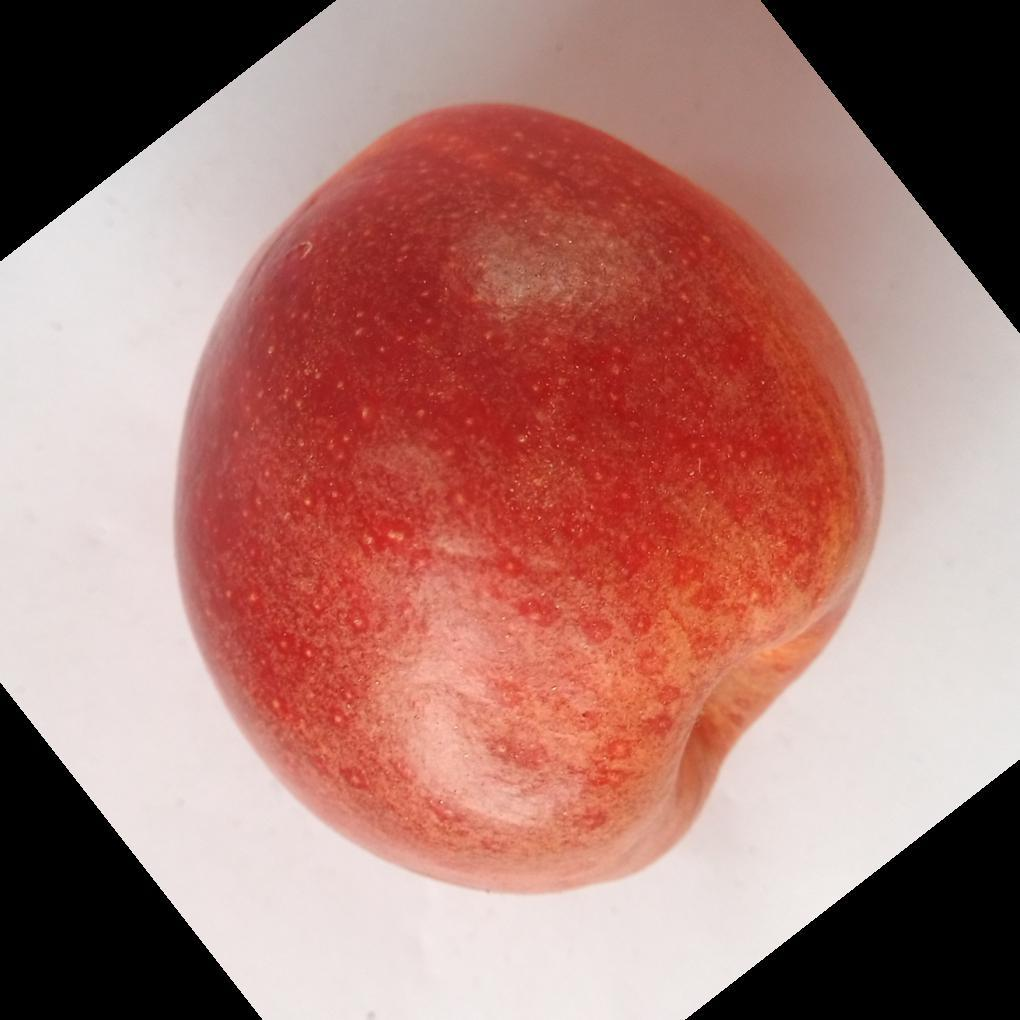FreshGuava: (168, 103, 887, 900)
